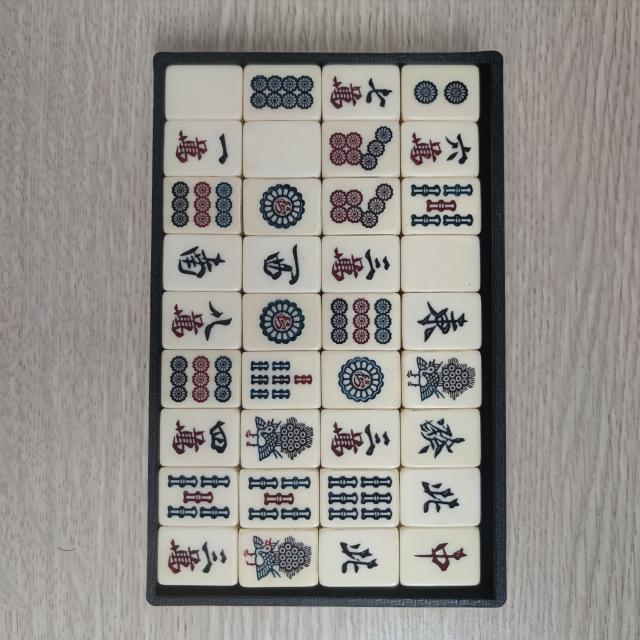hdg: (406, 414, 474, 464)
hdw: (406, 241, 474, 286), (249, 126, 315, 170), (171, 71, 236, 112)
hwe: (407, 298, 474, 347)
hwn: (324, 532, 392, 583), (406, 473, 473, 520)
hws: (168, 239, 236, 285)
hww: (250, 240, 318, 290)
sb1: (240, 532, 315, 584), (243, 412, 314, 465), (406, 354, 478, 406)
sb5: (407, 180, 477, 233), (163, 471, 233, 522), (244, 472, 312, 524)
sb6: (322, 471, 394, 523)
sb7: (246, 354, 316, 402)
sc1: (170, 126, 237, 170)
sc3: (326, 413, 394, 465), (326, 240, 396, 288), (163, 533, 232, 579)
sc4: (166, 411, 230, 462), (404, 534, 472, 582)
sc6: (406, 125, 474, 174)
sc7: (327, 68, 396, 112)
sc8: (167, 296, 238, 342)
sd1: (327, 354, 395, 405), (249, 182, 316, 232), (248, 297, 315, 347)
sd2: (406, 69, 474, 115)
sd7: (326, 123, 396, 174), (328, 181, 397, 232)
sd8: (248, 70, 318, 115)
sd9: (166, 354, 236, 406), (326, 296, 394, 348), (168, 180, 236, 230)
